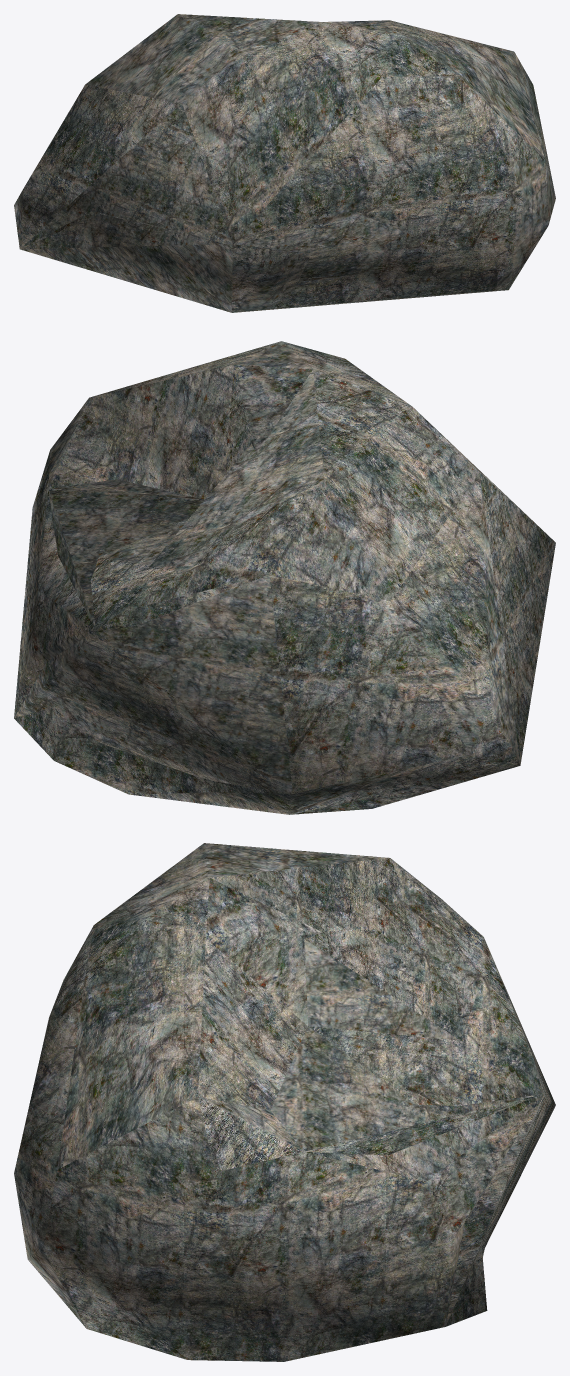
Rendered from SmallRock01.DAE.
3 views of the same model, one above another, from view 1: azimuth 30°, elevation 25°; view 2: azimuth 150°, elevation 25°; view 3: azimuth 270°, elevation 25° (orthographic). The views are drawn at different scales.
Visible parts, largest first — view 1: SmallStoneOne256, SmallStoneOne128; view 2: SmallStoneOne256, SmallStoneOne128; view 3: SmallStoneOne256, SmallStoneOne128.
Part boxes in pixels (left/top/right/bottom): SmallStoneOne256: left=14, top=14, right=555, bottom=312; SmallStoneOne128: left=20, top=104, right=492, bottom=312; SmallStoneOne256: left=14, top=341, right=552, bottom=814; SmallStoneOne128: left=14, top=370, right=555, bottom=793; SmallStoneOne256: left=14, top=843, right=542, bottom=1361; SmallStoneOne128: left=210, top=858, right=555, bottom=1326.
Size of the model in its own units: 25.82 by 20.12 by 15.78.
